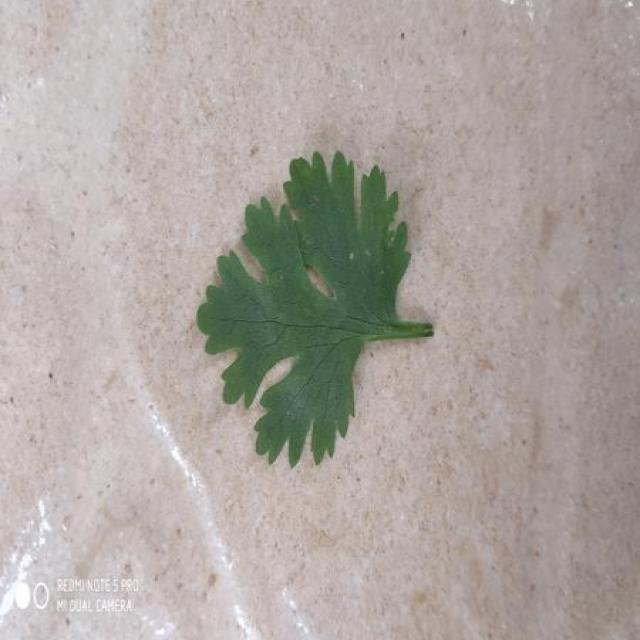coriender: (197, 152, 433, 466)
